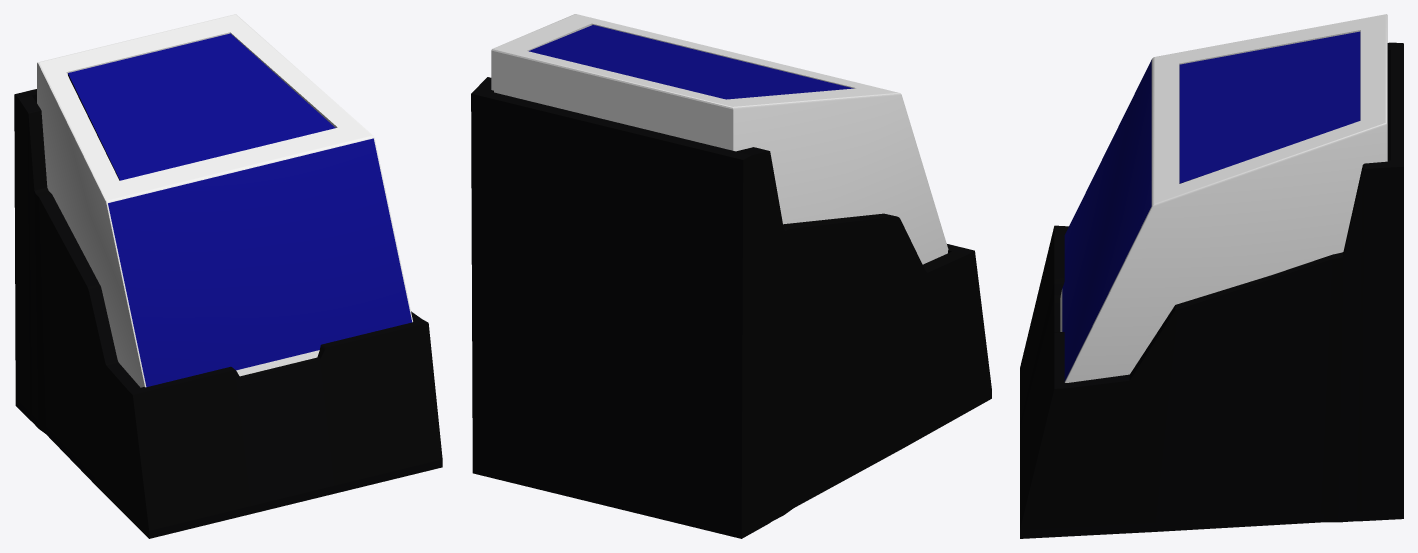
File: TerminalLow.FBX
The picture shows the model from 3 angles, left to right: view 1: azimuth 30°, elevation 25°; view 2: azimuth 150°, elevation 25°; view 3: azimuth 270°, elevation 25°; orthographic projection. The views are drawn at different scales.
Parts seen in each view (by area): view 1: Terminal, Terminal Casing001, TerminalLoader; view 2: Terminal Casing001, Terminal, TerminalLoader; view 3: Terminal Casing001, Terminal, TerminalLoader.
Part boxes in pixels (x1,y1,x2,y2): Terminal: [37, 14, 412, 387]; Terminal Casing001: [14, 89, 442, 538]; TerminalLoader: [68, 33, 335, 180]; Terminal Casing001: [471, 77, 991, 538]; Terminal: [491, 14, 948, 264]; TerminalLoader: [529, 25, 853, 99]; Terminal Casing001: [1020, 42, 1403, 538]; Terminal: [1060, 14, 1387, 382]; TerminalLoader: [1179, 31, 1360, 183].
Bounding box in the file's own units: 112 × 124 × 111.
